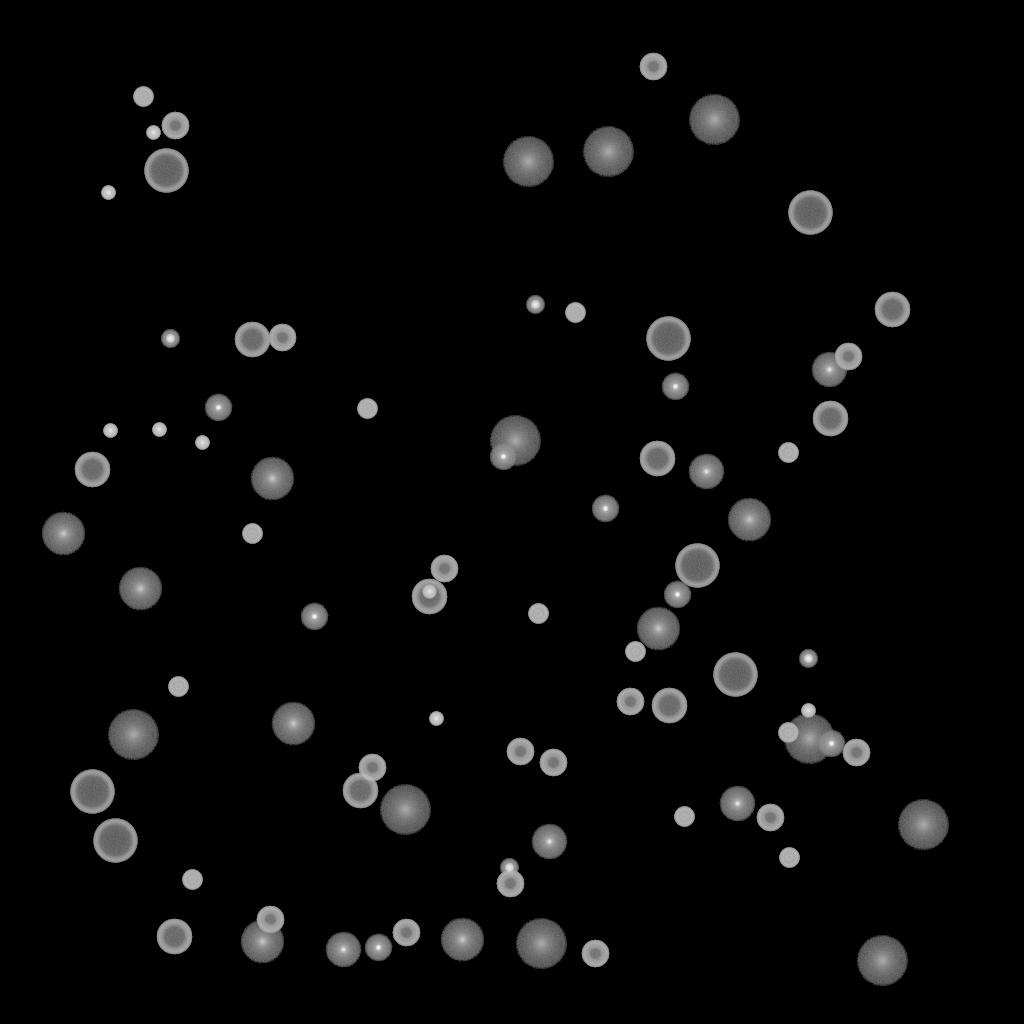depth:-10: (300, 603, 328, 631), (663, 581, 691, 609), (661, 373, 689, 401), (489, 443, 517, 471), (204, 394, 232, 422), (817, 730, 845, 758), (364, 934, 392, 962), (591, 495, 619, 523)
depth:-20: (526, 296, 544, 314), (161, 330, 179, 348), (500, 859, 518, 877), (799, 650, 817, 668)
depth:-30: (429, 712, 443, 726), (422, 585, 436, 599), (103, 424, 117, 438), (146, 126, 160, 140), (801, 704, 815, 718), (195, 436, 209, 450), (101, 186, 115, 200), (152, 423, 166, 437)
depth:-40: (674, 807, 694, 827), (528, 604, 548, 624), (242, 524, 262, 544), (778, 443, 798, 463), (565, 303, 585, 323), (357, 399, 377, 419), (168, 677, 188, 697), (133, 87, 153, 107), (625, 642, 645, 662), (779, 848, 799, 868), (182, 870, 202, 890), (778, 723, 798, 743)
depth:-50: (842, 739, 870, 767), (506, 738, 534, 766), (496, 870, 524, 898), (392, 919, 420, 947), (756, 804, 784, 832), (256, 906, 284, 934), (358, 754, 386, 782), (834, 343, 862, 371), (268, 324, 296, 352), (616, 688, 644, 716), (430, 555, 458, 583), (161, 112, 189, 140), (639, 53, 667, 81), (581, 940, 609, 968), (539, 749, 567, 777)
depth:-60: (411, 579, 447, 615), (874, 292, 910, 328), (639, 441, 675, 477), (156, 919, 192, 955), (812, 401, 848, 437), (74, 452, 110, 488), (342, 773, 378, 809), (651, 688, 687, 724), (234, 322, 270, 358)
depth:-70: (713, 653, 757, 697), (788, 191, 832, 235), (93, 819, 137, 863), (646, 317, 690, 361), (144, 149, 188, 193), (70, 770, 114, 814), (675, 544, 719, 588)
depth:0: (811, 352, 847, 388), (688, 454, 724, 490), (531, 824, 567, 860), (325, 932, 361, 968), (719, 786, 755, 822)
depth:10: (118, 567, 162, 611), (41, 512, 85, 556), (271, 702, 315, 746), (636, 607, 680, 651), (240, 920, 284, 964), (250, 457, 294, 501), (440, 918, 484, 962), (727, 498, 771, 542)
depth:20: (783, 714, 835, 764), (107, 710, 159, 760), (688, 95, 740, 145), (379, 785, 431, 835), (582, 127, 634, 177), (897, 800, 949, 850), (502, 137, 554, 187), (856, 936, 908, 986), (515, 919, 567, 969), (489, 416, 541, 466)
